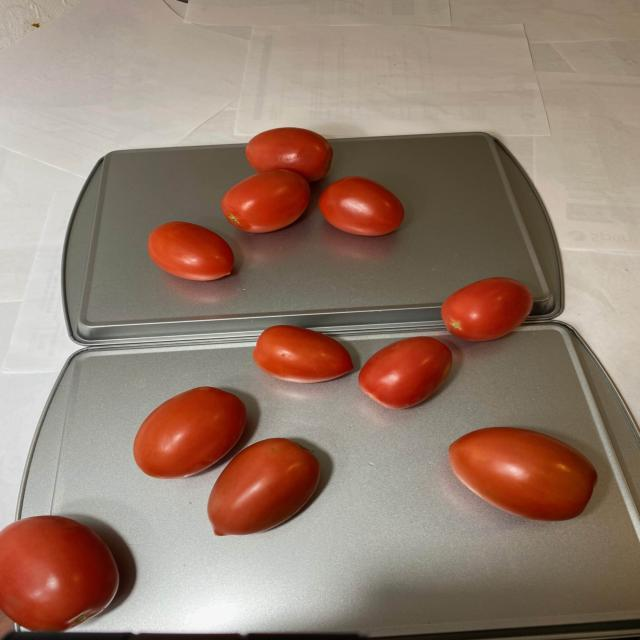tomato: (2, 279, 595, 632), (144, 127, 406, 281)
